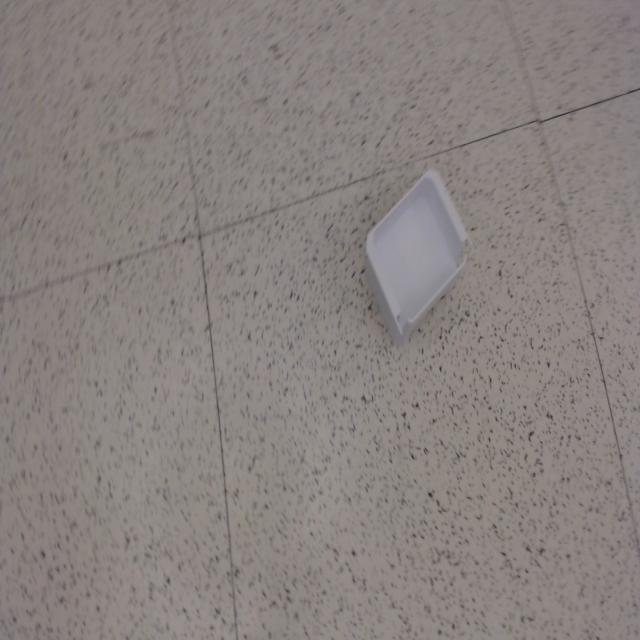wbox: (363, 165, 471, 348)
